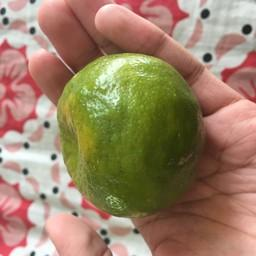Good_orange: (56, 52, 208, 217)
